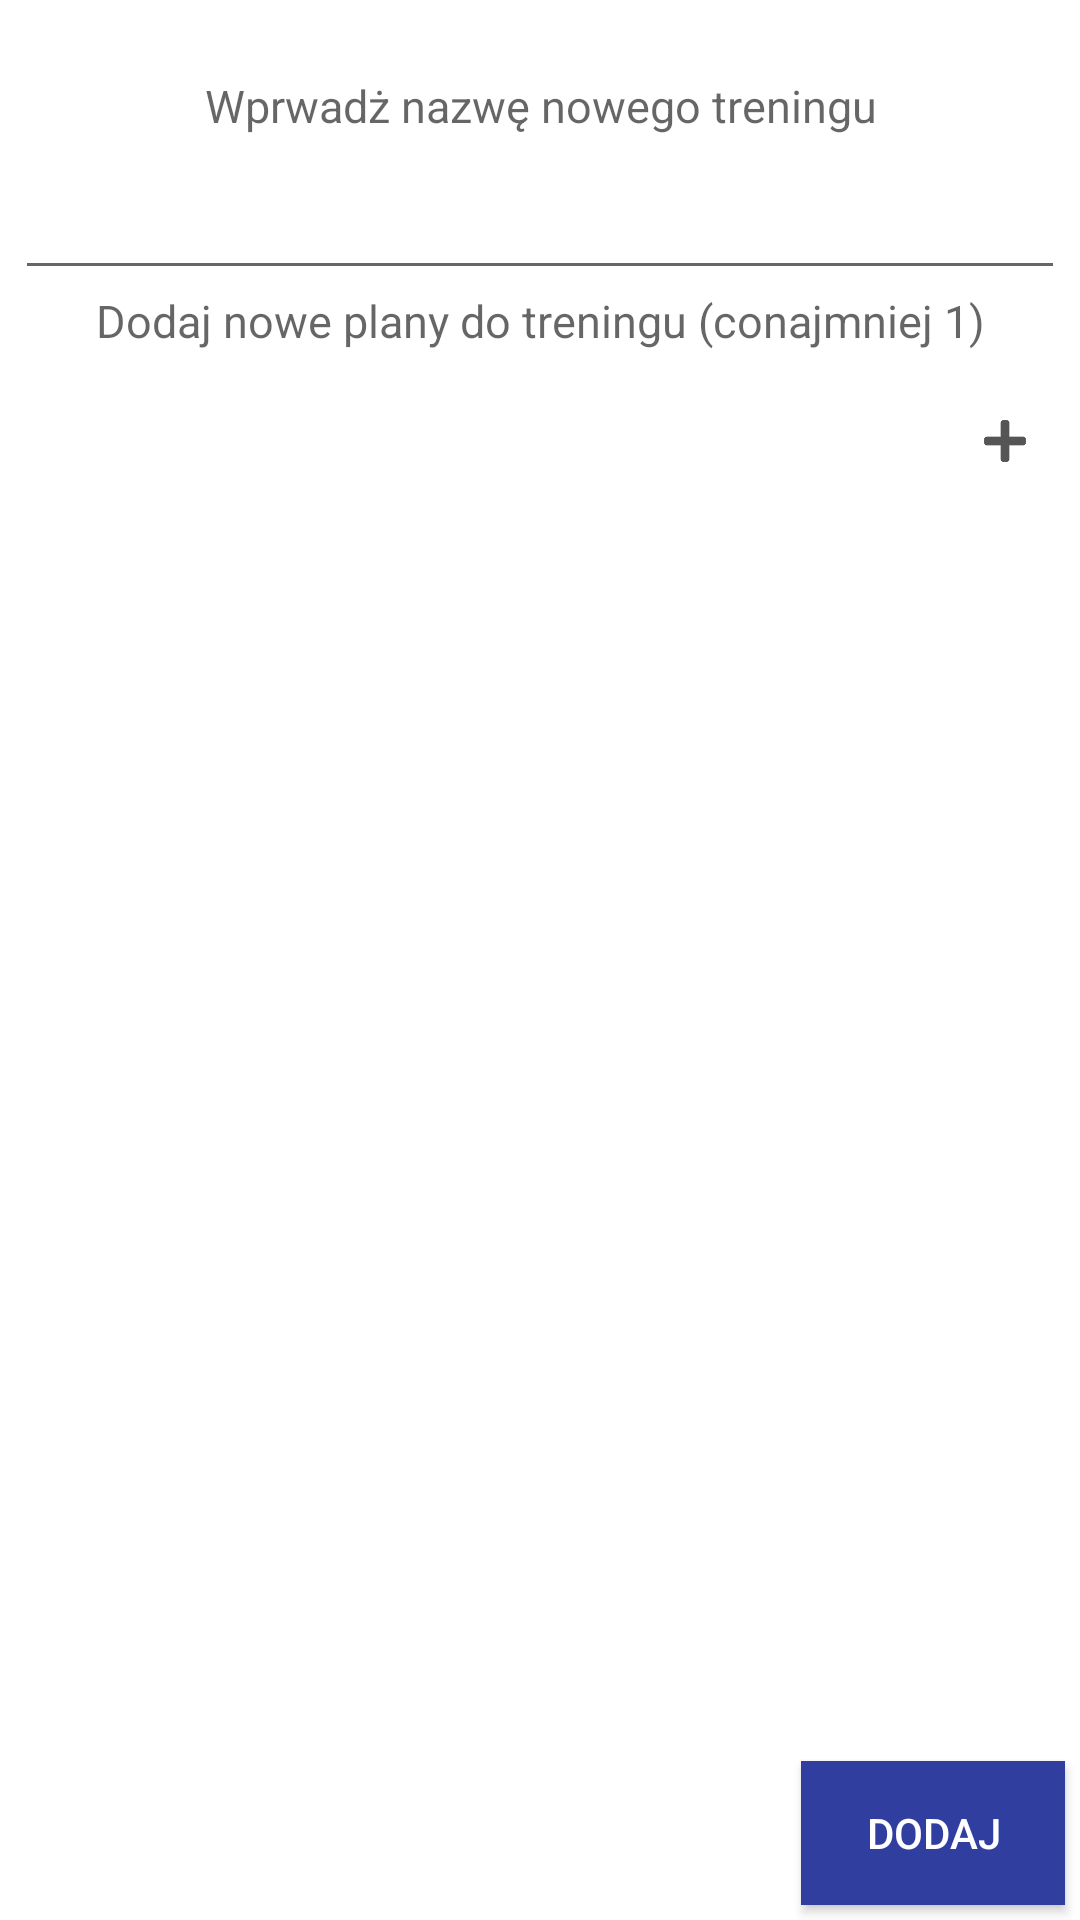

Locate icon controls on the screen. Image size 1080x1920, boxes as Rect(x1, y1, x2, y2).
add: Rect(984, 420, 1026, 462)
